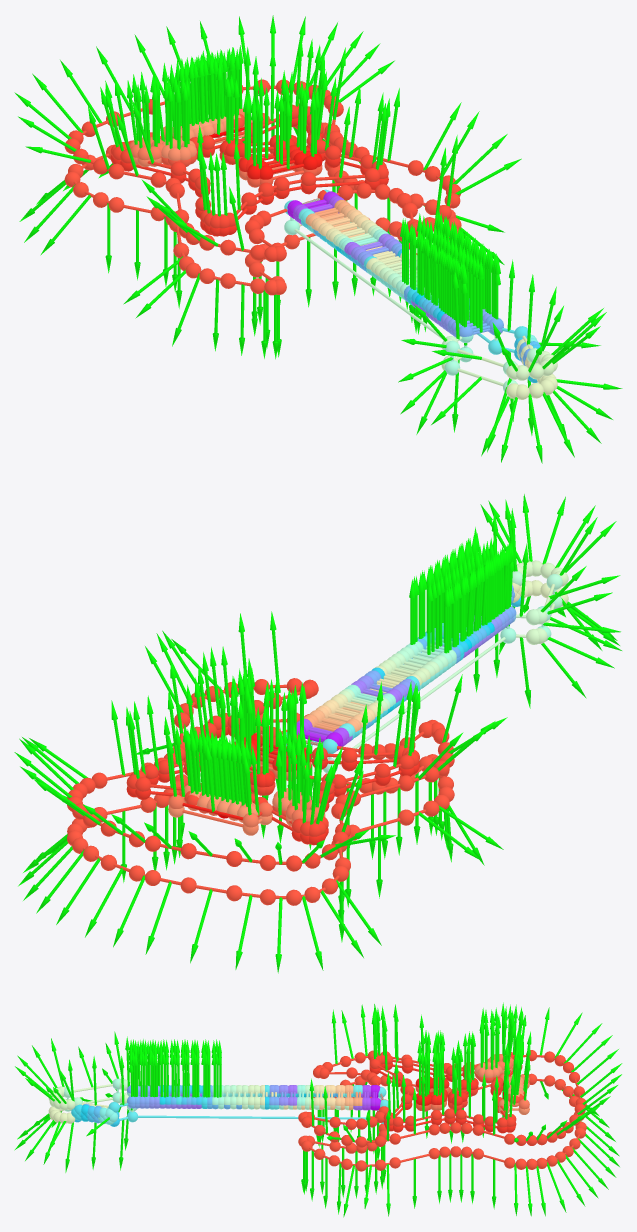
The model's file is onshape_guitar.gltf.
The picture shows the model from 3 angles, top to bottom: view 1: azimuth 30°, elevation 25°; view 2: azimuth 150°, elevation 25°; view 3: azimuth 270°, elevation 25°; orthographic projection. The views are drawn at different scales.
Size of the model in its own units: 0.5368 by 0.265 by 1.07.
